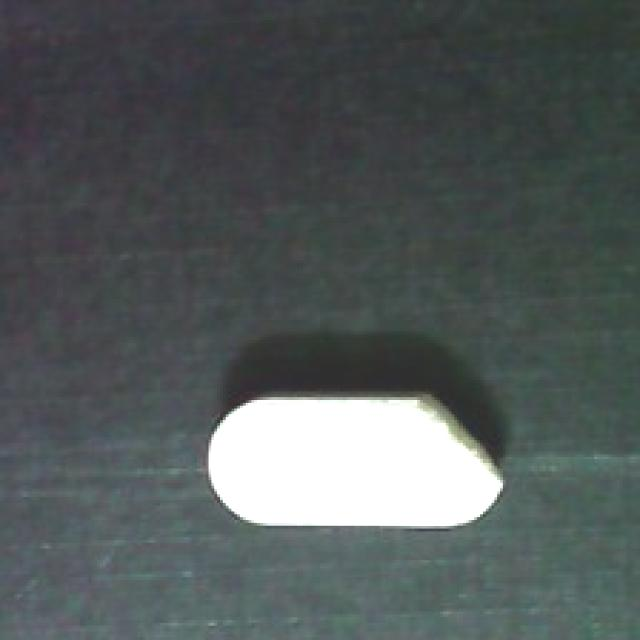defected: (203, 374, 520, 543)
